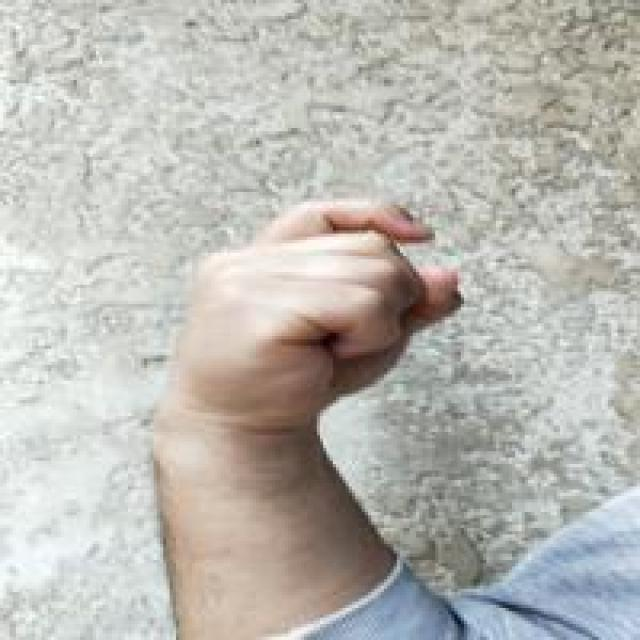X: (168, 188, 482, 442)
